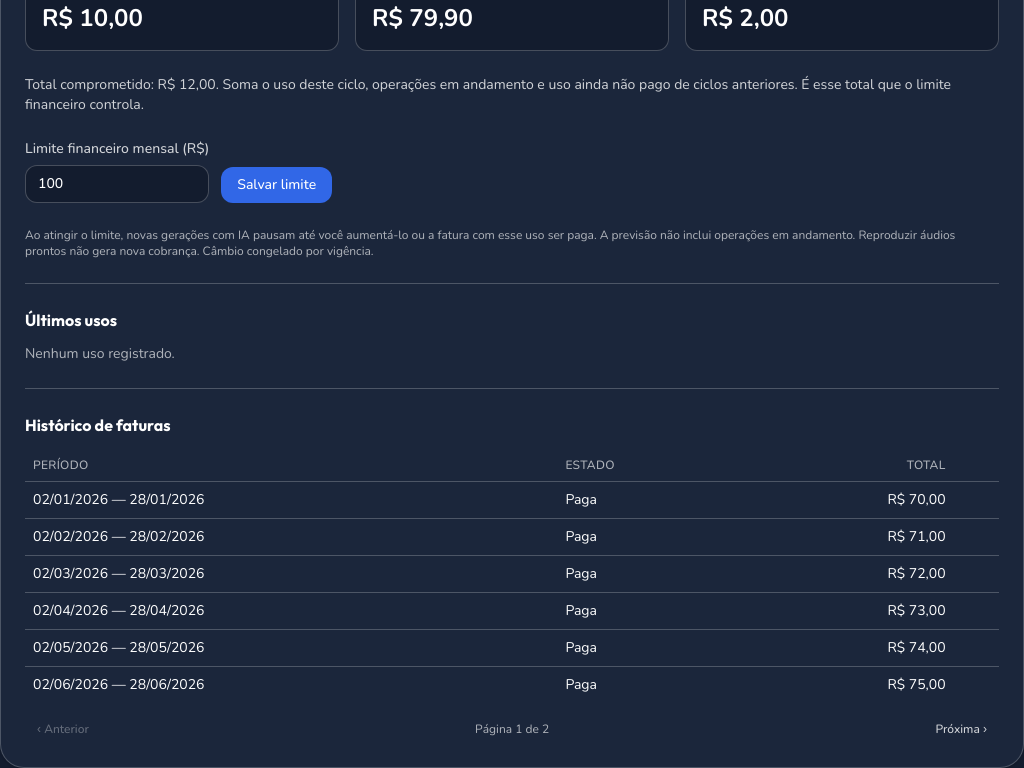
Test case: pagina o histórico de faturas
(page scrolled)
Expected: the navigation bar named "Páginas do histórico de faturas" shows "Página 1 de 2", left=475, top=721, right=549, bottom=737
Click the button "Próxima ›": (961, 729) left=924, top=715, right=999, bottom=743
(page scrolled)
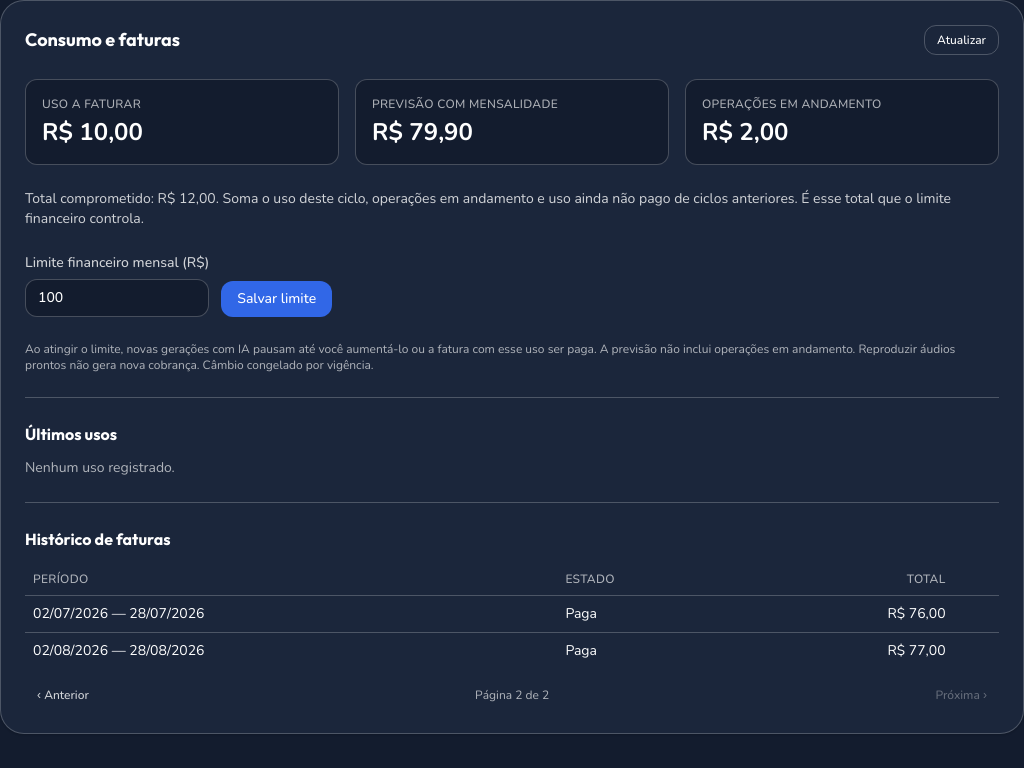
Result: the text "70,00" is not shown
